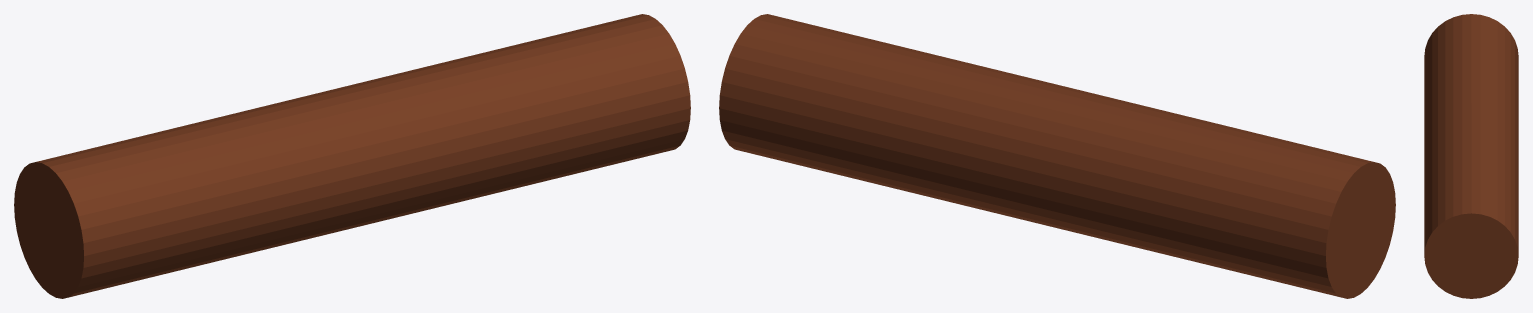
The model's file is log.fbx.
3 renders of one model, left to right at view 1: azimuth 30°, elevation 25°; view 2: azimuth 150°, elevation 25°; view 3: azimuth 270°, elevation 25°, orthographic. The views are drawn at different scales.
Parts seen in each view (by area): view 1: Cylinder; view 2: Cylinder; view 3: Cylinder.
Boxes of the visible parts, x1,y1,x2,y2 form: Cylinder: (14,14,690,298); Cylinder: (719,14,1395,298); Cylinder: (1424,14,1518,298).
Size of the model in its own units: 500 by 100 by 100.
